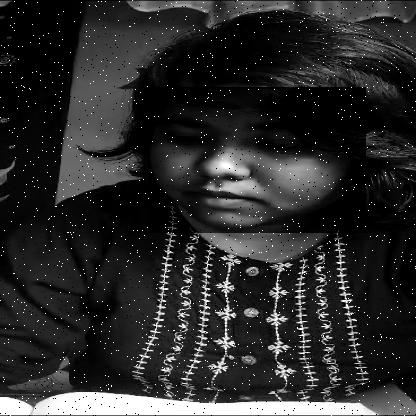Distracted: (148, 88, 366, 233)
